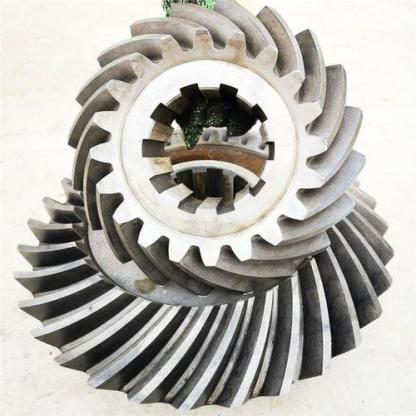FOD: (10, 156, 398, 412), (66, 0, 372, 302)
